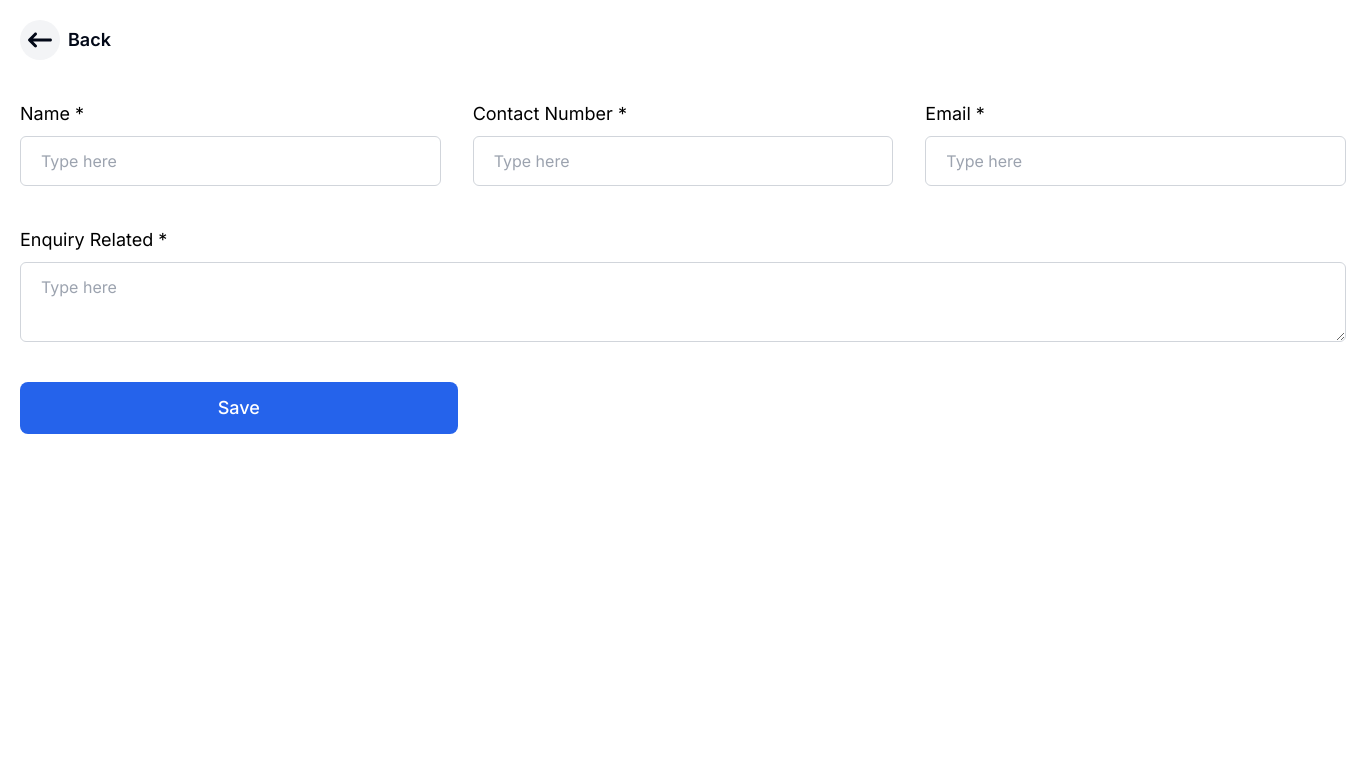
Test: AddEnquiry Component › submits form and shows success modal
Type "John Doe" into the field labelled "Name *" at [230, 161], box x1=20 y1=136 x2=441 y2=186
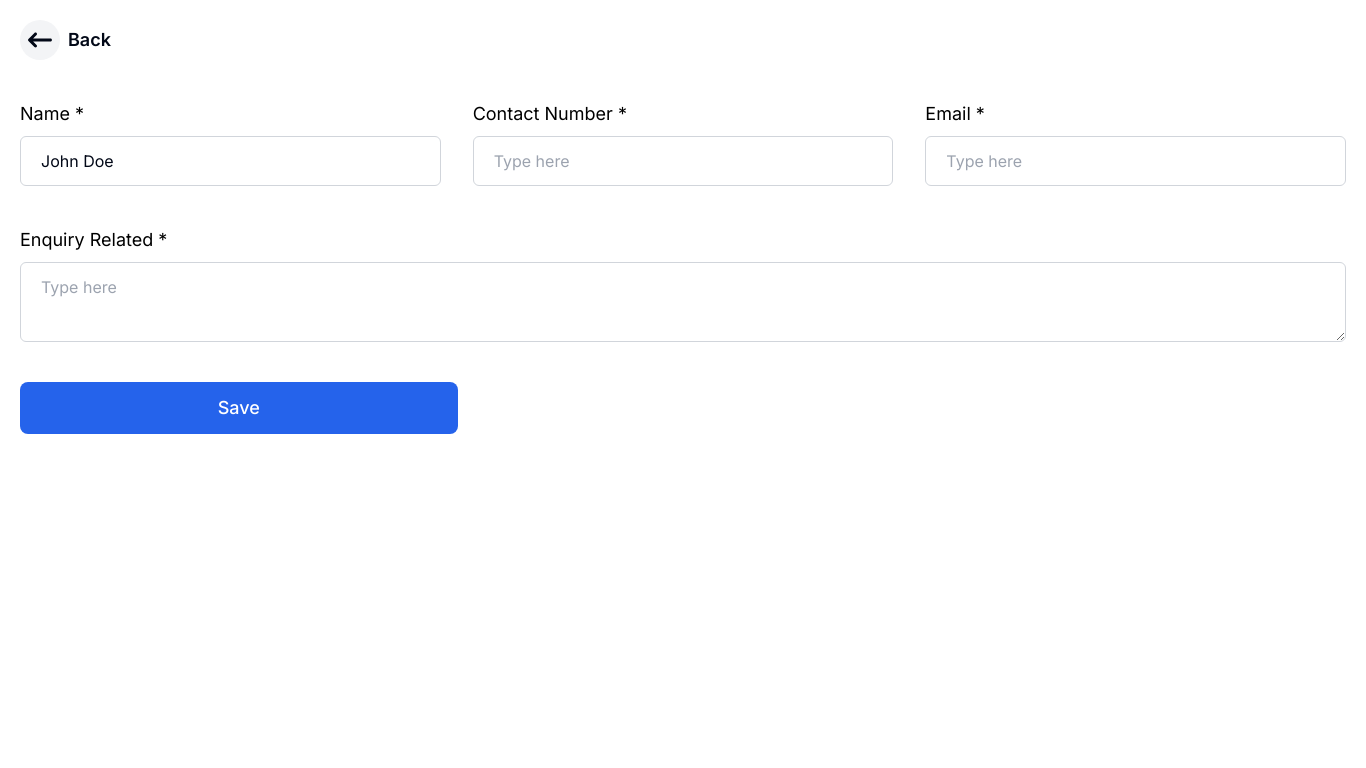
Type "1234567890" into the field labelled "Contact Number *" at [683, 161], box x1=473 y1=136 x2=893 y2=186
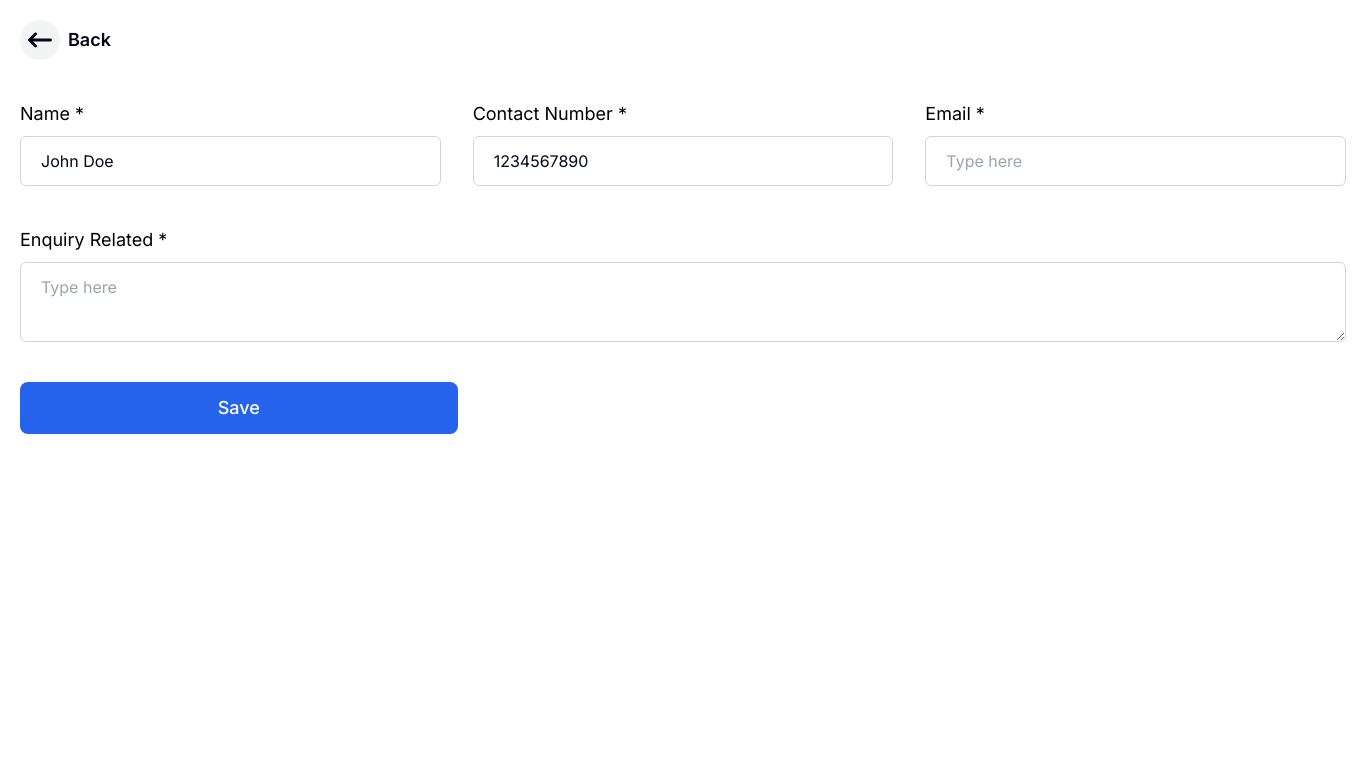
Type "john.doe@example.com" into the field labelled "Email *" at [1136, 161], box x1=925 y1=136 x2=1346 y2=186
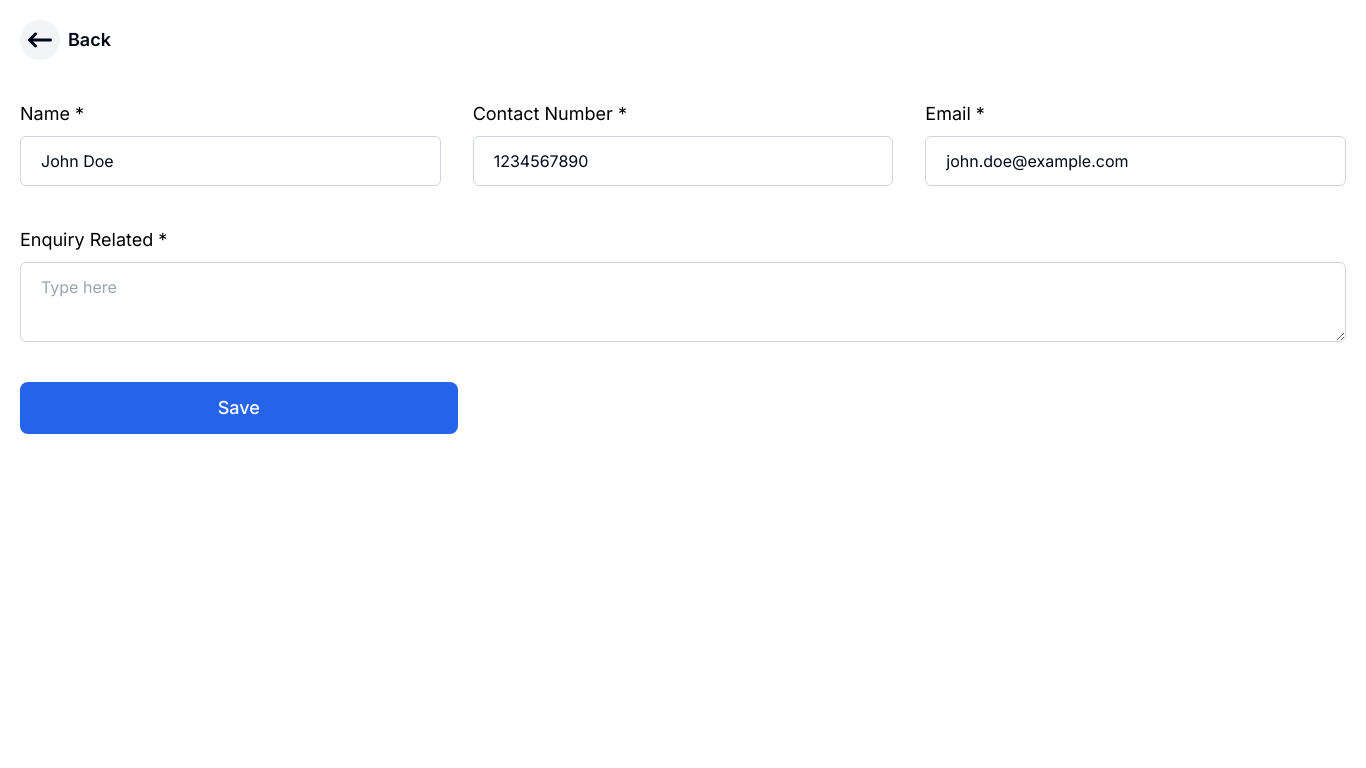
Type "General Inquiry" into the text box labelled "Enquiry Related *" at [683, 302], box x1=20 y1=262 x2=1346 y2=342
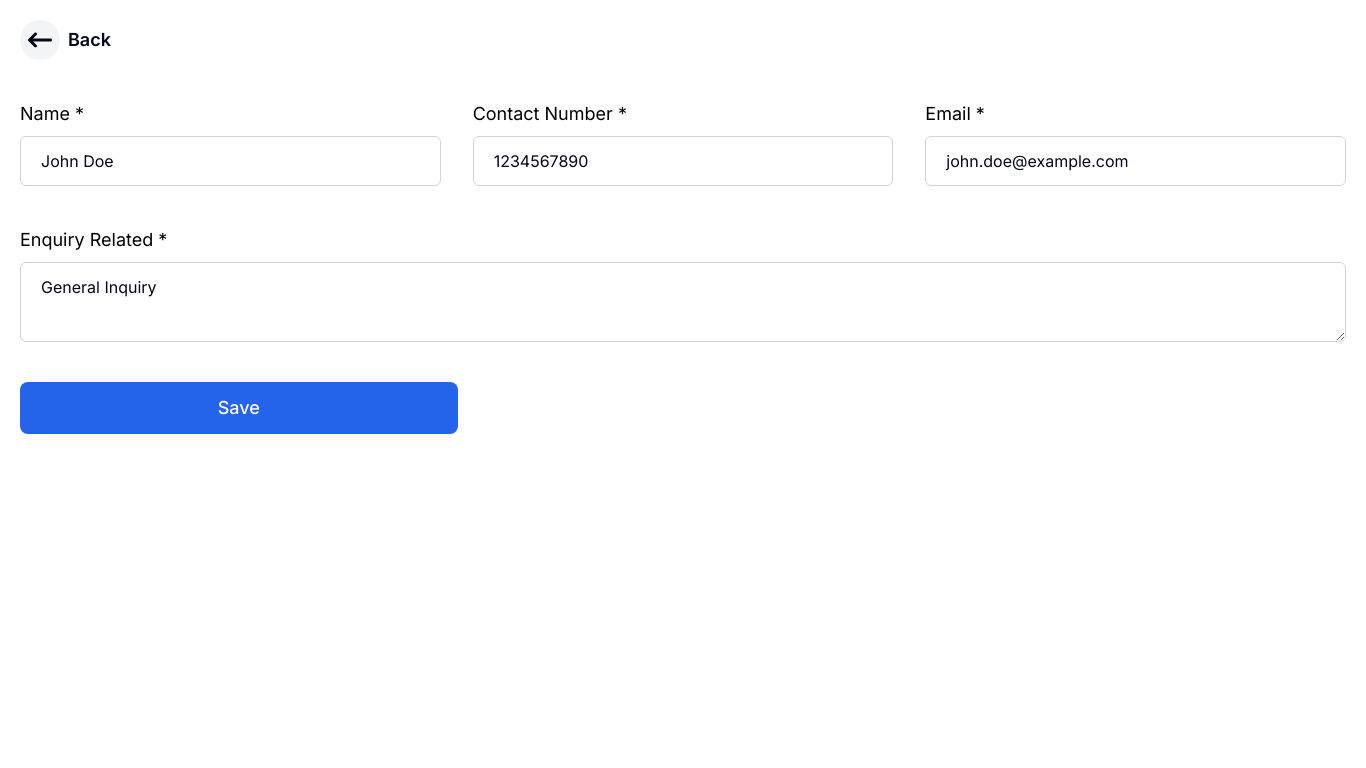
Click the button "Save" at [239, 408], box x1=20 y1=382 x2=458 y2=434
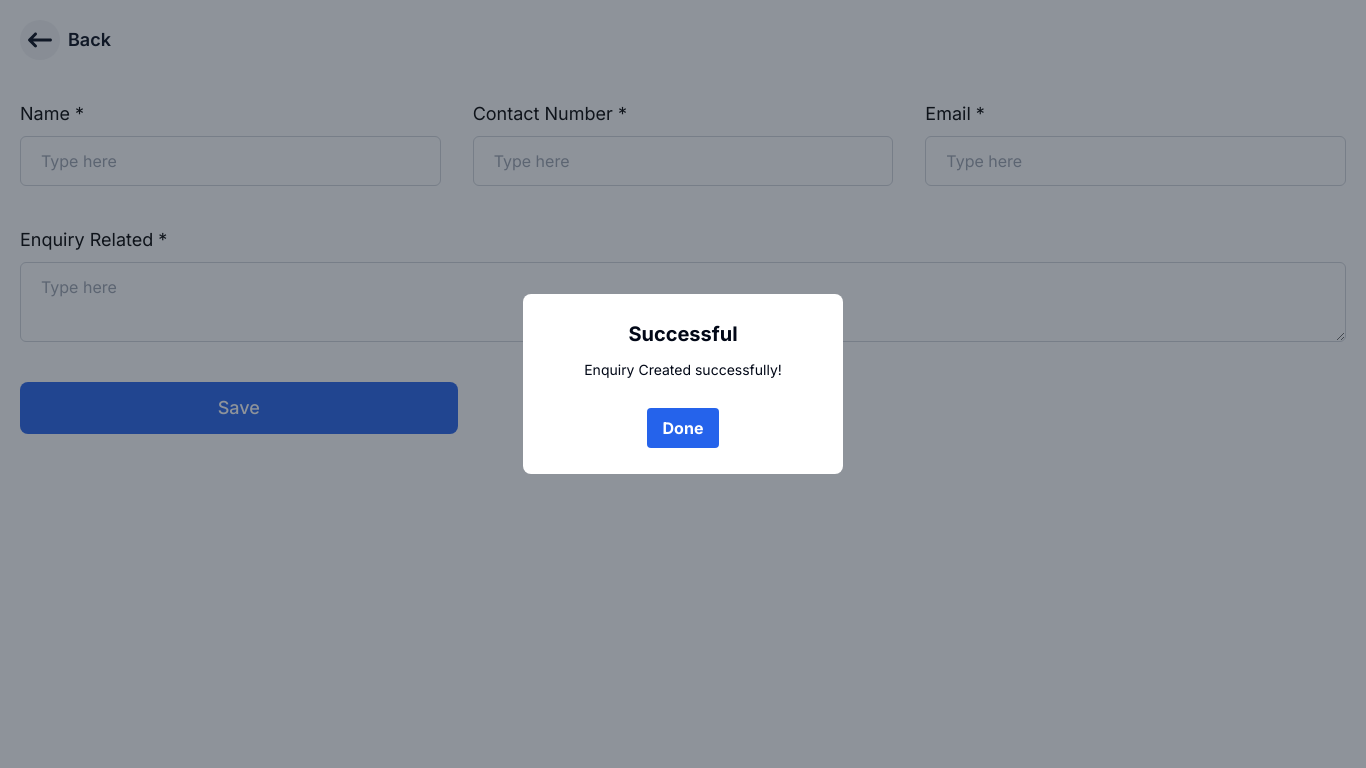
Now the heading "Enquiry Created successfully!" is shown, box x1=584 y1=360 x2=782 y2=380
